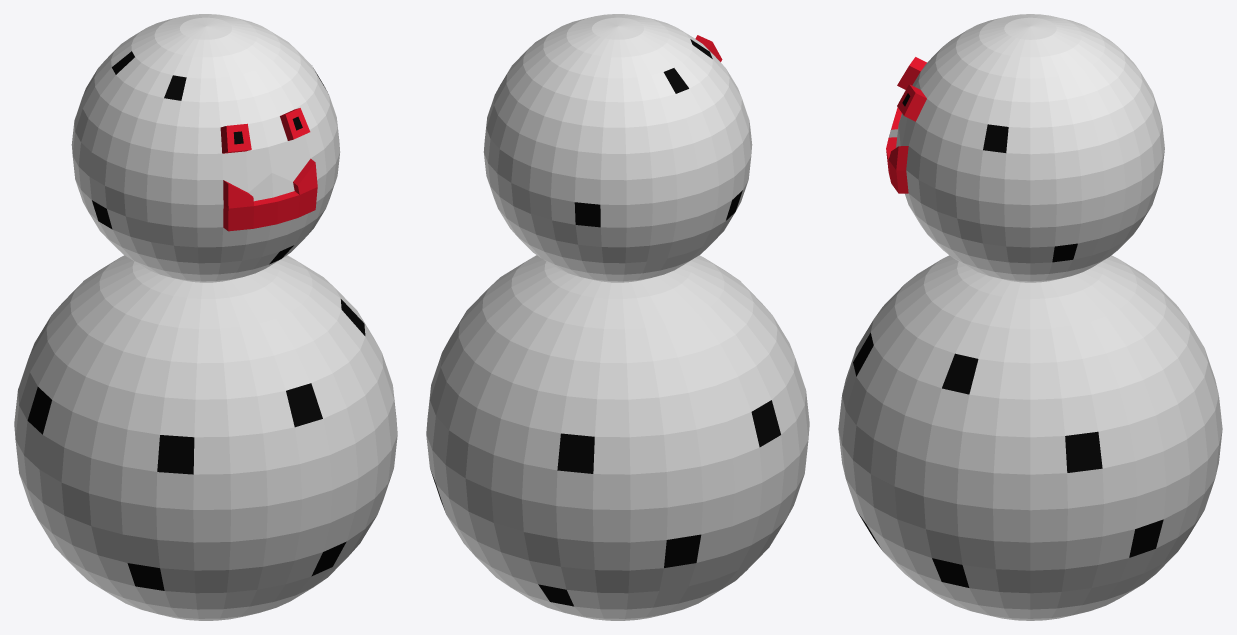
Rendered from FisheyeBoss2.fbx.
The picture shows the model from 3 angles, left to right: view 1: azimuth 30°, elevation 25°; view 2: azimuth 150°, elevation 25°; view 3: azimuth 270°, elevation 25°; orthographic projection.
Parts seen in each view (by area): view 1: Sphere, Sphere.001; view 2: Sphere, Sphere.001; view 3: Sphere, Sphere.001.
Part boxes in pixels (x1,y1,x2,y2): Sphere: (14,255,397,620); Sphere.001: (71,14,340,282); Sphere: (426,255,809,620); Sphere.001: (483,14,752,282); Sphere: (838,255,1222,620); Sphere.001: (886,14,1164,282).
Bounding box in the file's own units: 200 × 331 × 200.
